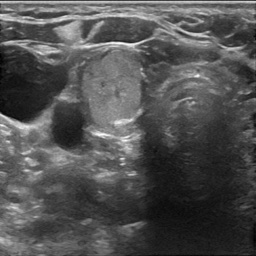mass: (84, 48, 145, 129)
